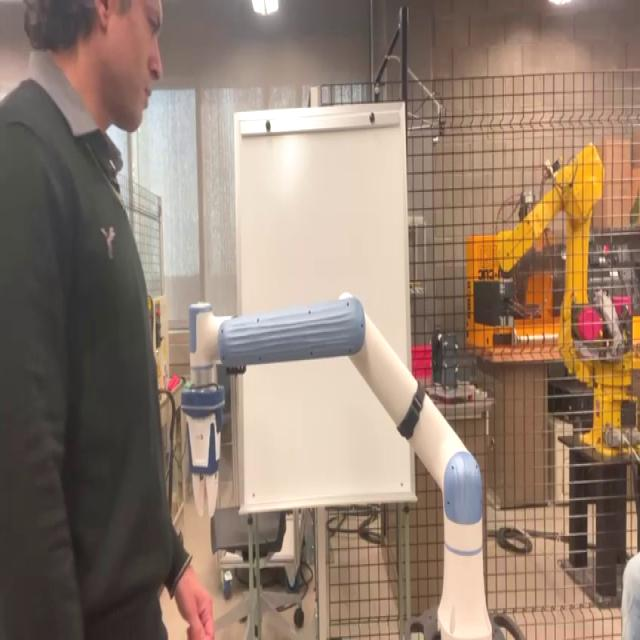robot: (181, 290, 525, 638)
